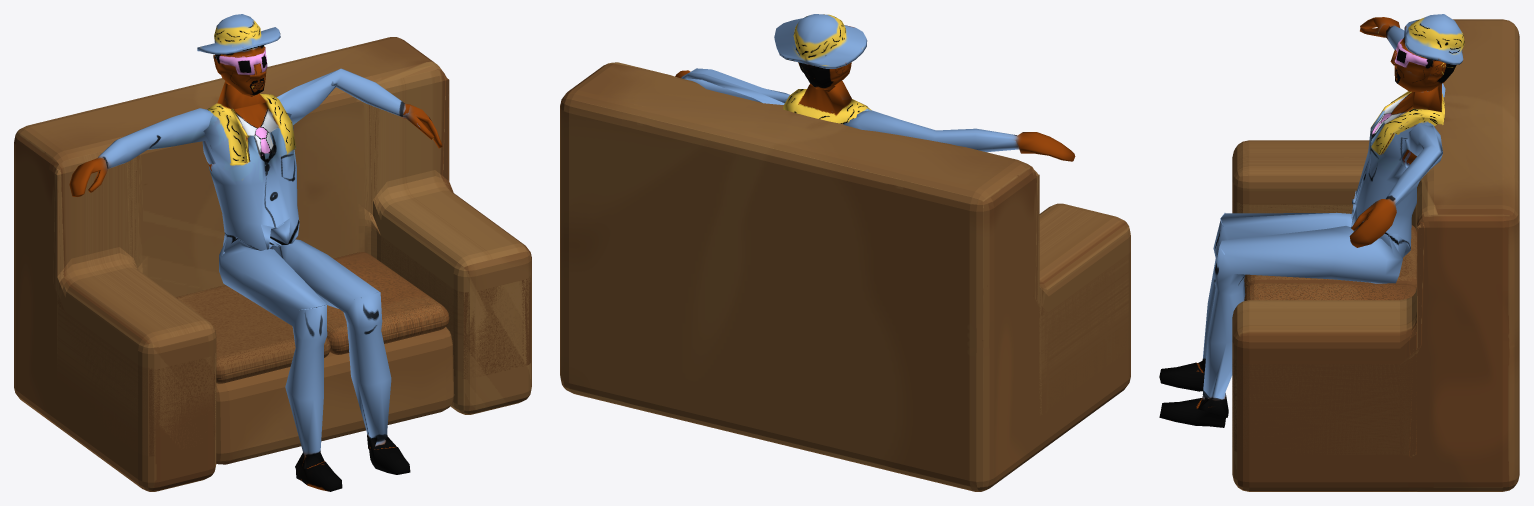
The model's file is pimpkavc.glb.
3 renders of one model, left to right at view 1: azimuth 30°, elevation 25°; view 2: azimuth 150°, elevation 25°; view 3: azimuth 270°, elevation 25°, orthographic. The views are drawn at different scales.
Visible parts, largest first — view 1: Cube.001, Cube, Cube.002, Cube.004, Cube.003; view 2: Cube.001, Cube; view 3: Cube.001, Cube, Cube.003, Cube.004.
Part boxes in pixels (box(x1,y1,x2,y2)): Cube.001: box(14, 37, 531, 491); Cube: box(69, 14, 442, 491); Cube.002: box(216, 327, 454, 464); Cube.004: box(176, 285, 330, 383); Cube.003: box(327, 252, 449, 354); Cube.001: box(560, 62, 1130, 491); Cube: box(675, 14, 1075, 161); Cube.001: box(1232, 19, 1519, 491); Cube: box(1159, 14, 1464, 427); Cube.003: box(1244, 282, 1416, 300); Cube.004: box(1244, 225, 1416, 289).
Size of the model in its own units: 5.94 by 5.32 by 4.46.
5 materials, 5 textured.
